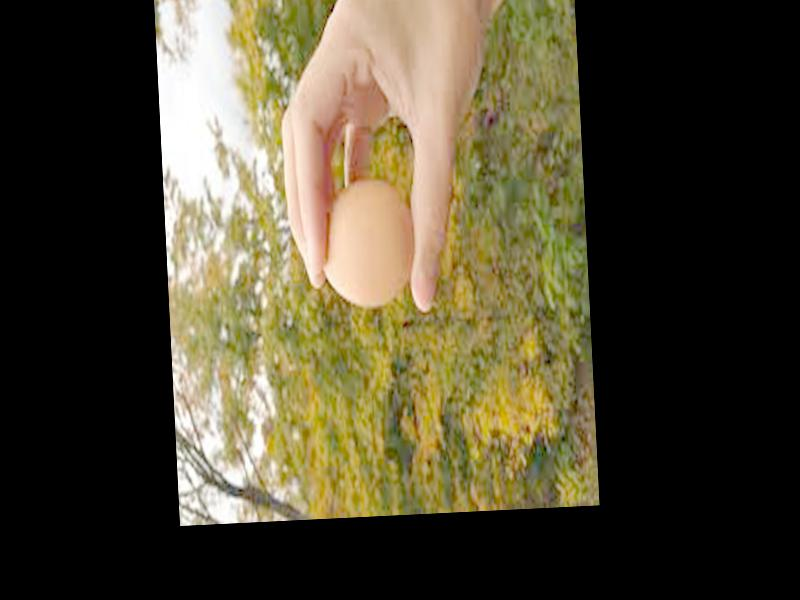Eggs: (317, 179, 417, 308)
